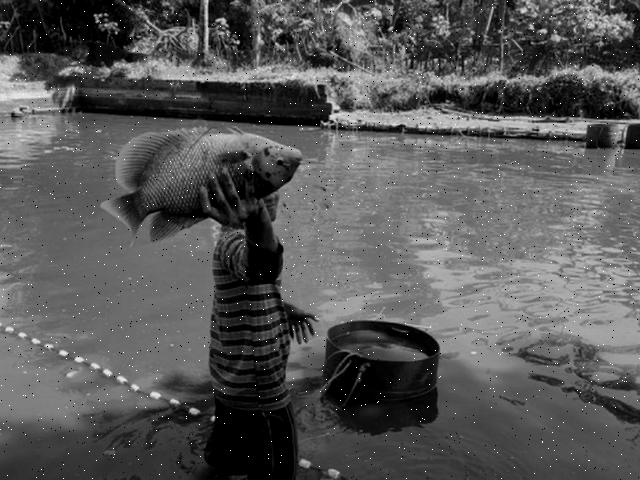Mulut: (281, 144, 309, 172)
Sirip Anal: (112, 119, 210, 195)
Sirip Dada: (208, 145, 255, 173)
Sirip Ekor: (91, 188, 150, 258)
Sirip Punggung: (141, 207, 213, 249)
